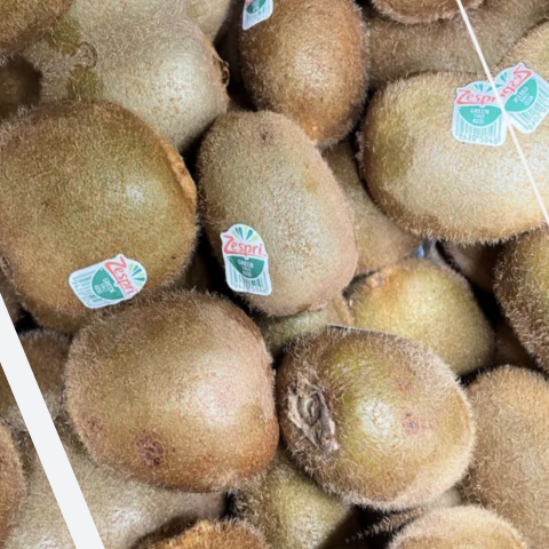kiwi: (25, 231, 332, 539), (217, 282, 528, 549), (0, 54, 252, 367), (158, 71, 409, 362), (324, 23, 549, 288)
